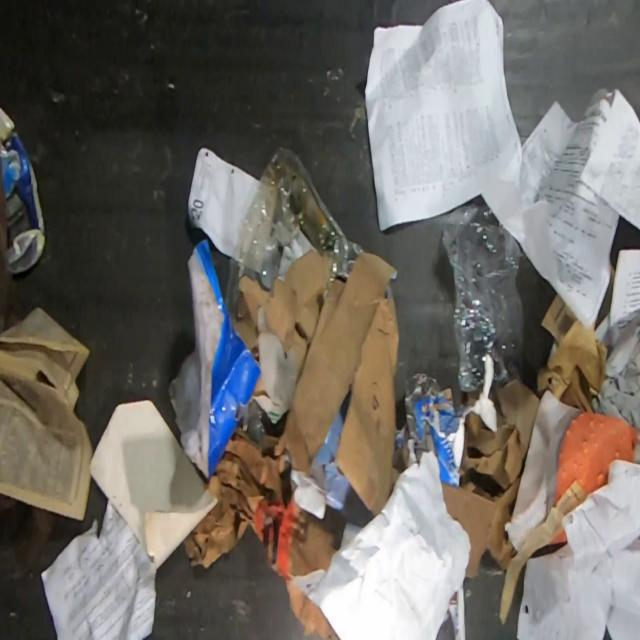cardboard: (230, 250, 400, 521), (441, 479, 520, 578)
metal: (0, 107, 45, 273)
rigid_plastic: (224, 146, 366, 313)
soft_plastic: (443, 204, 524, 392)
